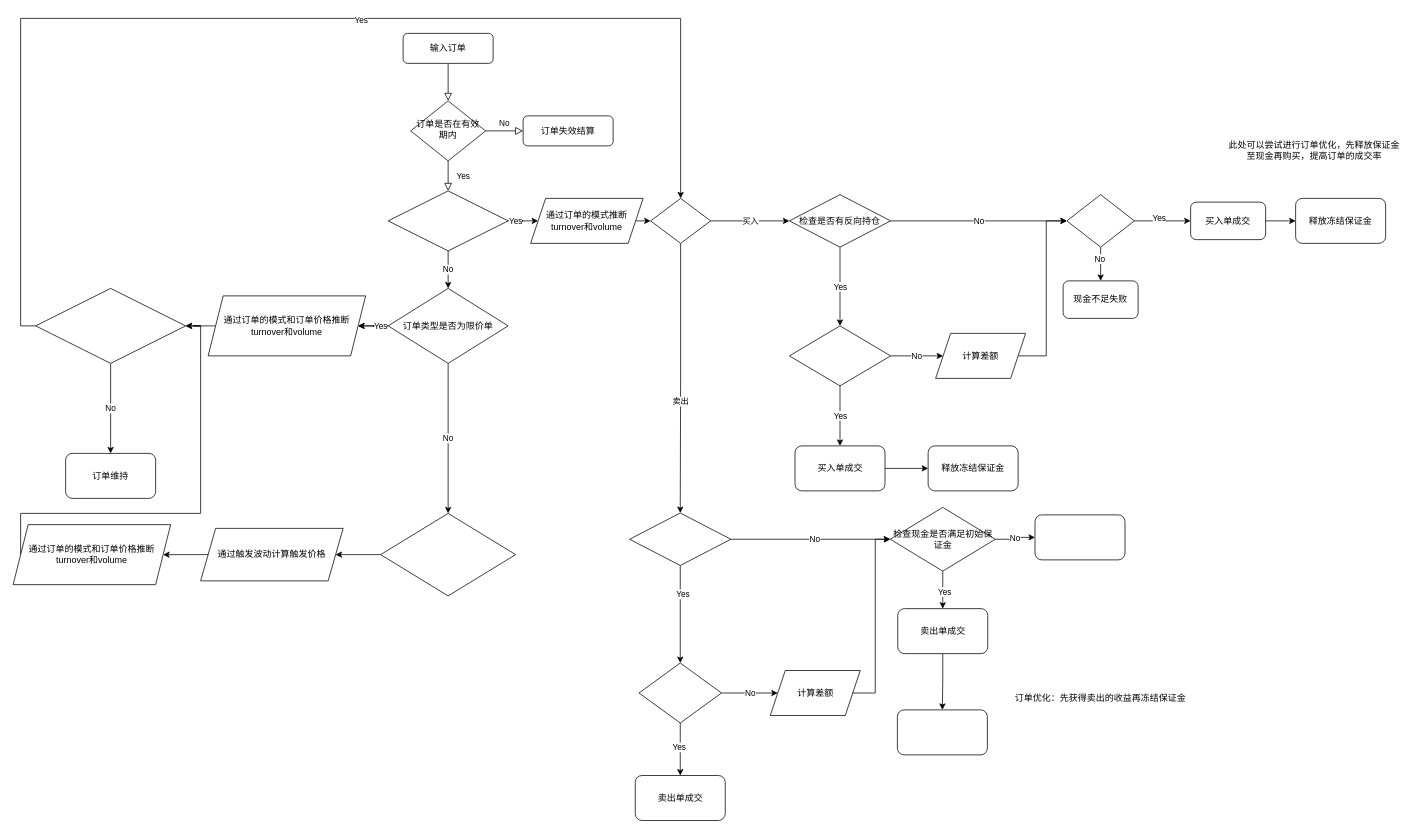
This 1414x834 diagram has some shape labels left out. The centre of each missing label's shape, as x and y in pixels:
"保证金不足失败" belongs at (x=1079, y=537).
"冻结维持保证金" belongs at (x=942, y=732).
"反向持仓是否充足" belongs at (x=840, y=355).
"检查是否有正向持仓" belongs at (x=680, y=539).
"正向持仓是否充足" belongs at (x=680, y=692).
"现金是否充足" belongs at (x=1100, y=220).
"触发价格是否处于波动范围内" belongs at (x=110, y=325).
"订单方向" belongs at (x=680, y=220).
"订单类型是否为市价单" belongs at (x=447, y=220).
"订单类型是否为止盈/止损" belongs at (x=448, y=554).
